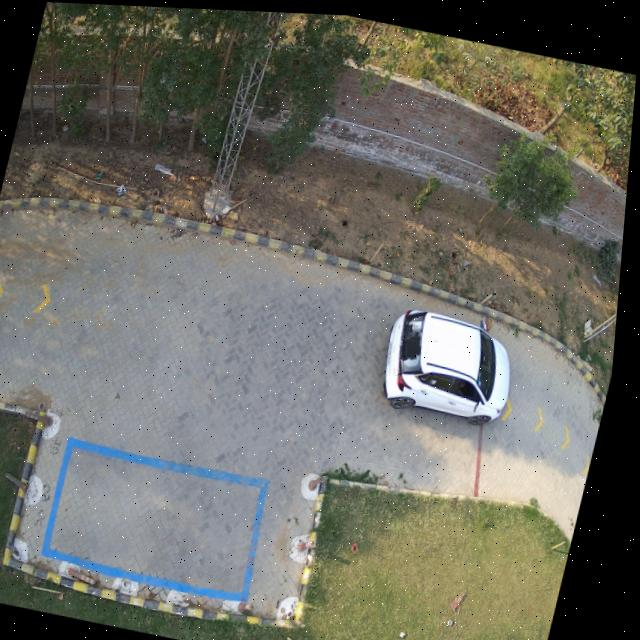car: (390, 305, 516, 419)
